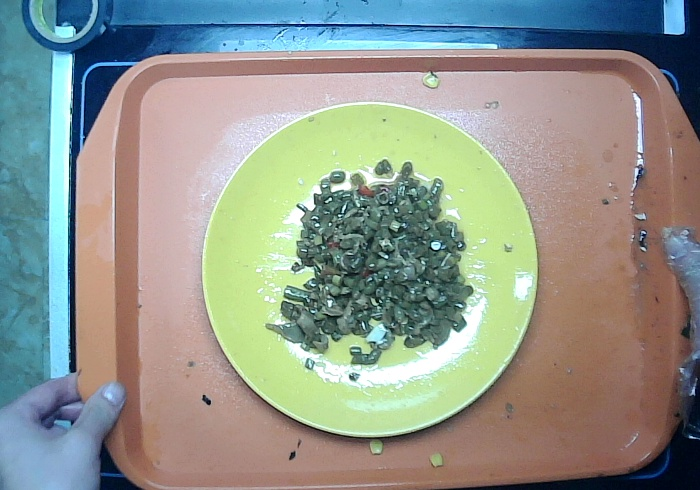HZYJPL-Huang_Se_Yuan_Pan: (196, 101, 539, 442)
